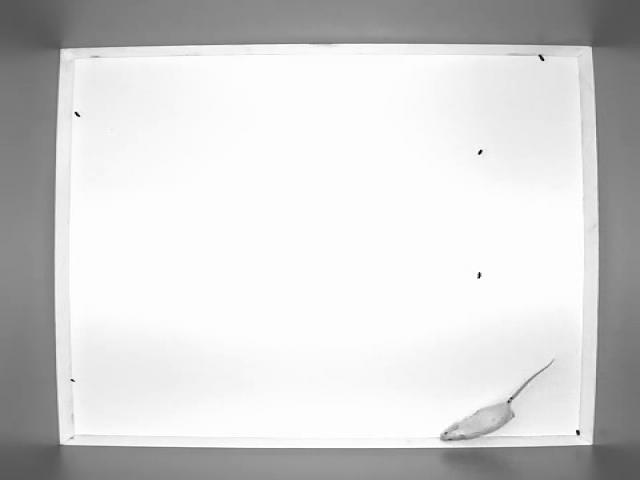Tikus: (440, 358, 552, 442)
